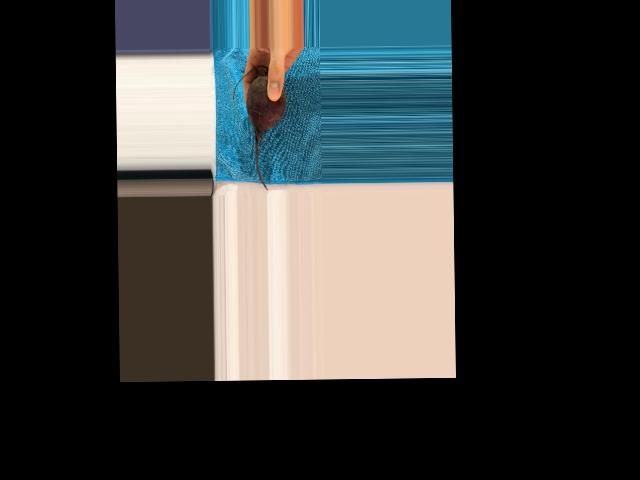beet: (233, 65, 287, 191)
